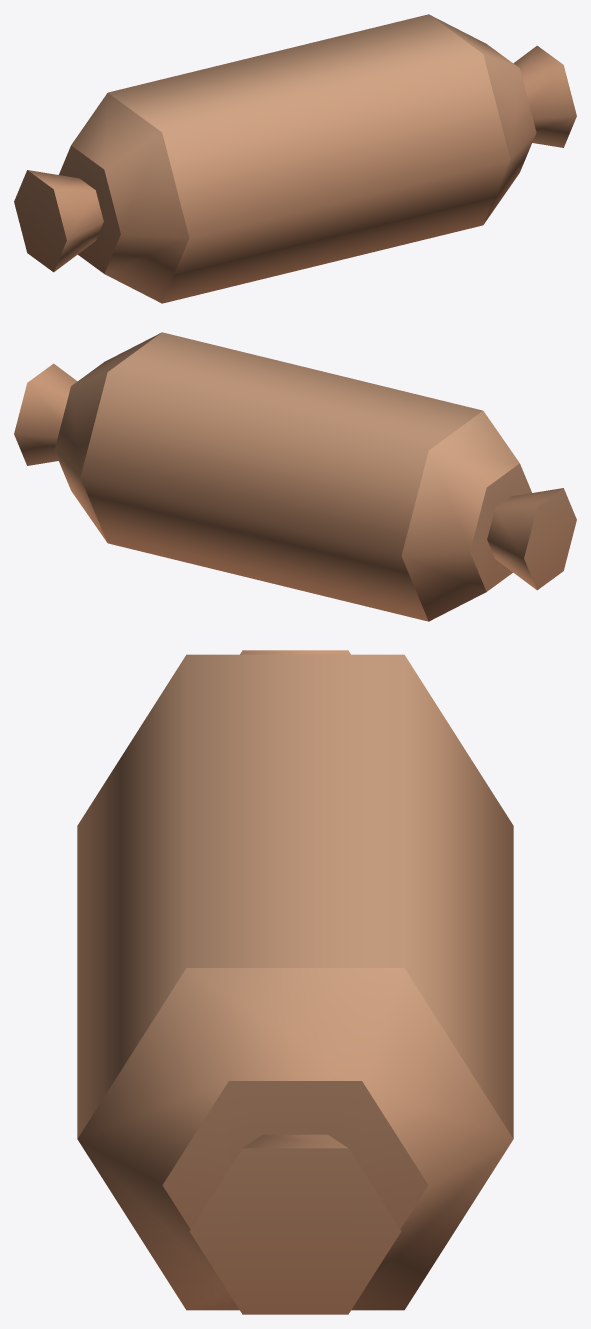
Rendered from sausage.glb.
3 views of the same model, one above another, from view 1: azimuth 30°, elevation 25°; view 2: azimuth 150°, elevation 25°; view 3: azimuth 270°, elevation 25° (orthographic). The views are drawn at different scales.
Parts seen in each view (by area): view 1: sausage; view 2: sausage; view 3: sausage.
Part boxes in pixels (x1,y1,x2,y2): sausage: (14,14,576,303); sausage: (14,332,576,621); sausage: (77,650,513,1314).
Bounding box in the file's own units: 0.3707 × 0.1189 × 0.1373.
